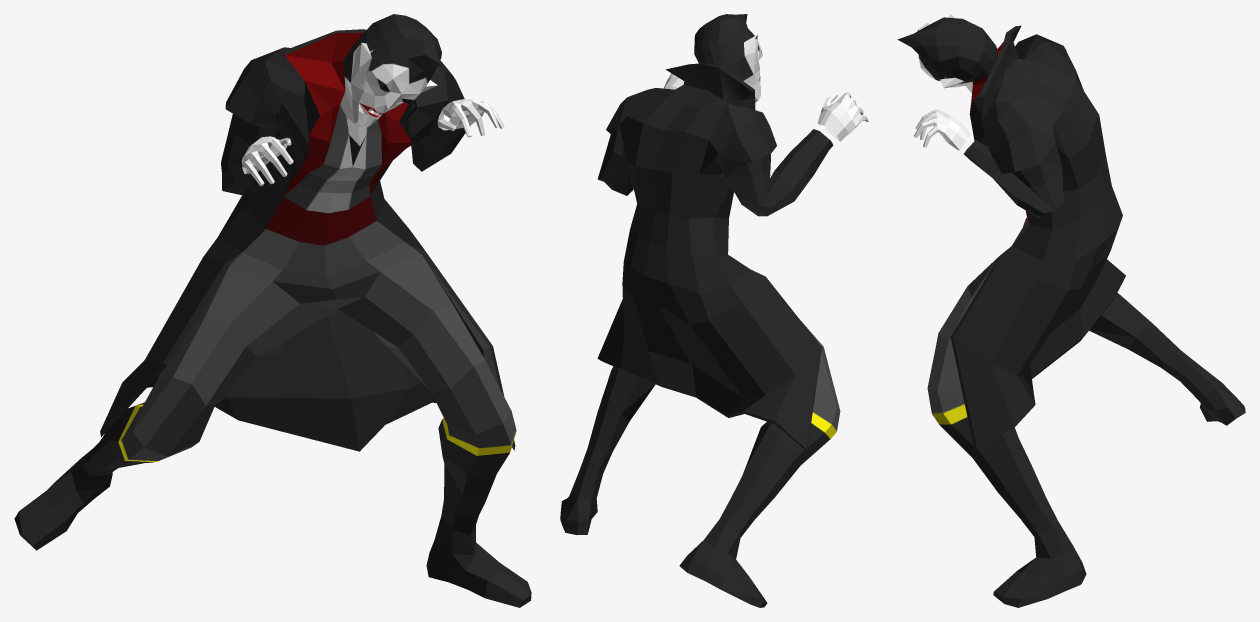
The model's file is VampireAttack(47).obj.
3 views of the same model, side by side, from view 1: azimuth 30°, elevation 25°; view 2: azimuth 150°, elevation 25°; view 3: azimuth 270°, elevation 25° (orthographic). The views are drawn at different scales.
Visible parts, largest first — view 1: Plane002; view 2: Plane002; view 3: Plane002.
Boxes of the visible parts, x1=… form: Plane002: x1=14, y1=14, x2=531, y2=607; Plane002: x1=560, y1=14, x2=868, y2=607; Plane002: x1=897, y1=14, x2=1245, y2=607.
Bounding box in the file's own units: 173 × 277 × 168.
